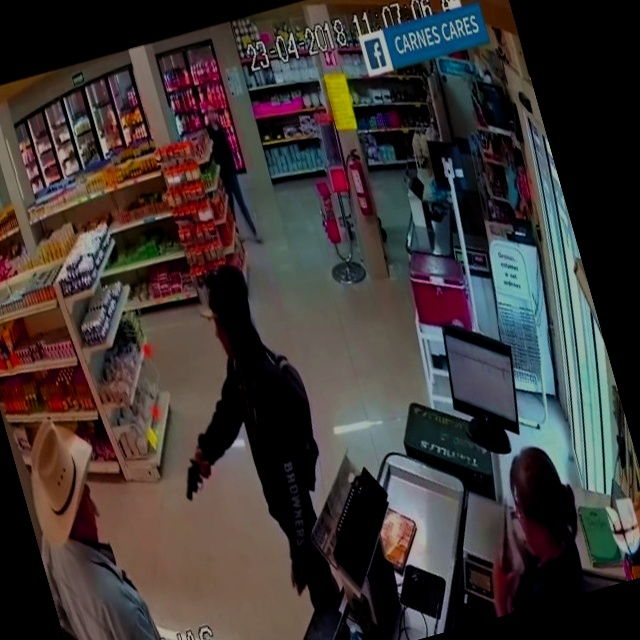gun: (168, 433, 222, 523)
